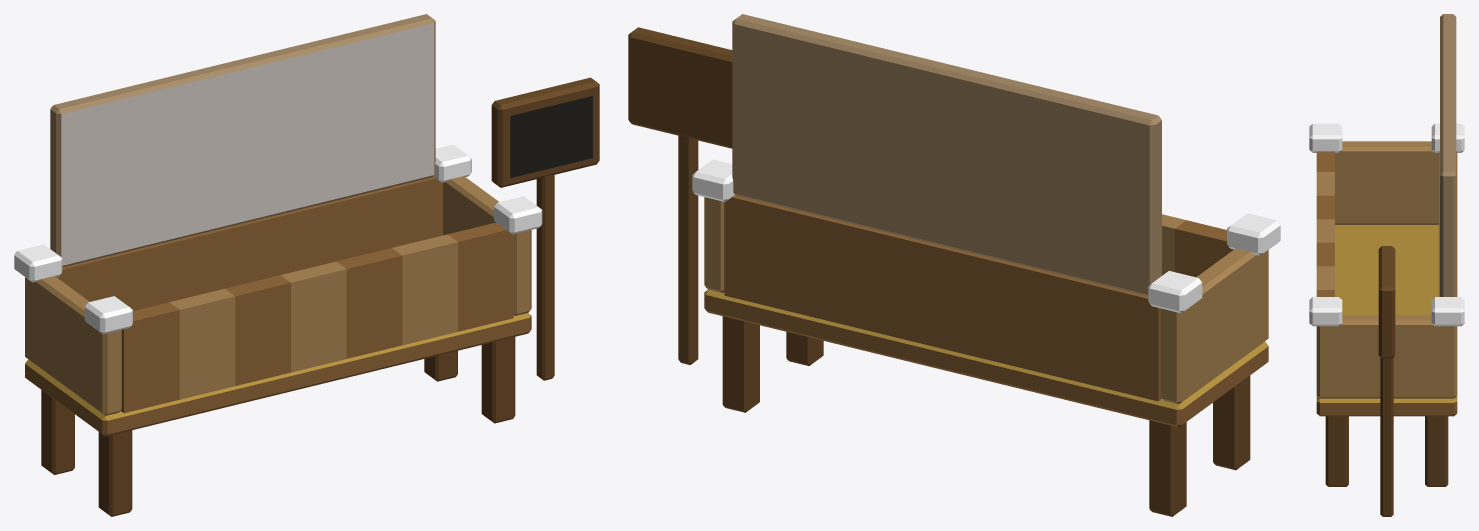
Rendered from sell_trough.glb.
The picture shows the model from 3 angles, left to right: view 1: azimuth 30°, elevation 25°; view 2: azimuth 150°, elevation 25°; view 3: azimuth 270°, elevation 25°; orthographic projection. The views are drawn at different scales.
Parts seen in each view (by area): view 1: SellTrough; view 2: SellTrough; view 3: SellTrough.
Part boxes in pixels (x1,y1,x2,y2): SellTrough: [14, 14, 599, 516]; SellTrough: [628, 14, 1280, 516]; SellTrough: [1309, 14, 1464, 516].
Bounding box in the file's own units: 3.27 × 2.06 × 0.9402.
